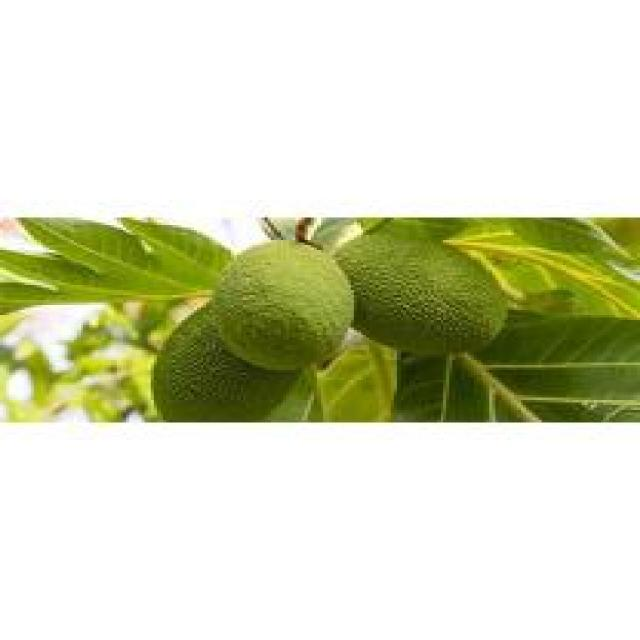Fruit: (142, 228, 360, 380), (308, 220, 514, 360)
